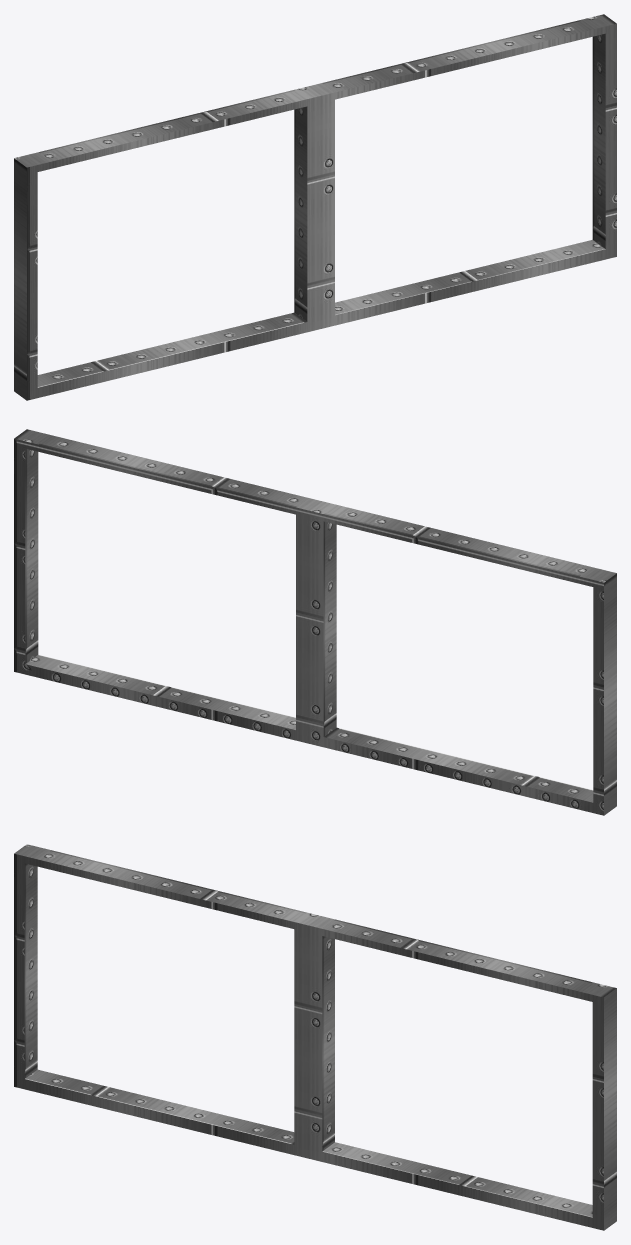
The model's file is rejilla.fbx.
3 renders of one model, top to bottom at view 1: azimuth 30°, elevation 25°; view 2: azimuth 150°, elevation 25°; view 3: azimuth 330°, elevation 25°, orthographic.
Visible parts, largest first — view 1: Reja superior; view 2: Reja superior; view 3: Reja superior.
Part boxes in pixels (x1=…): Reja superior: x1=14, y1=14, x2=616, y2=400; Reja superior: x1=14, y1=429, x2=616, y2=815; Reja superior: x1=14, y1=844, x2=616, y2=1230.
Bounding box in the file's own units: 200 × 75.52 × 7.58.
